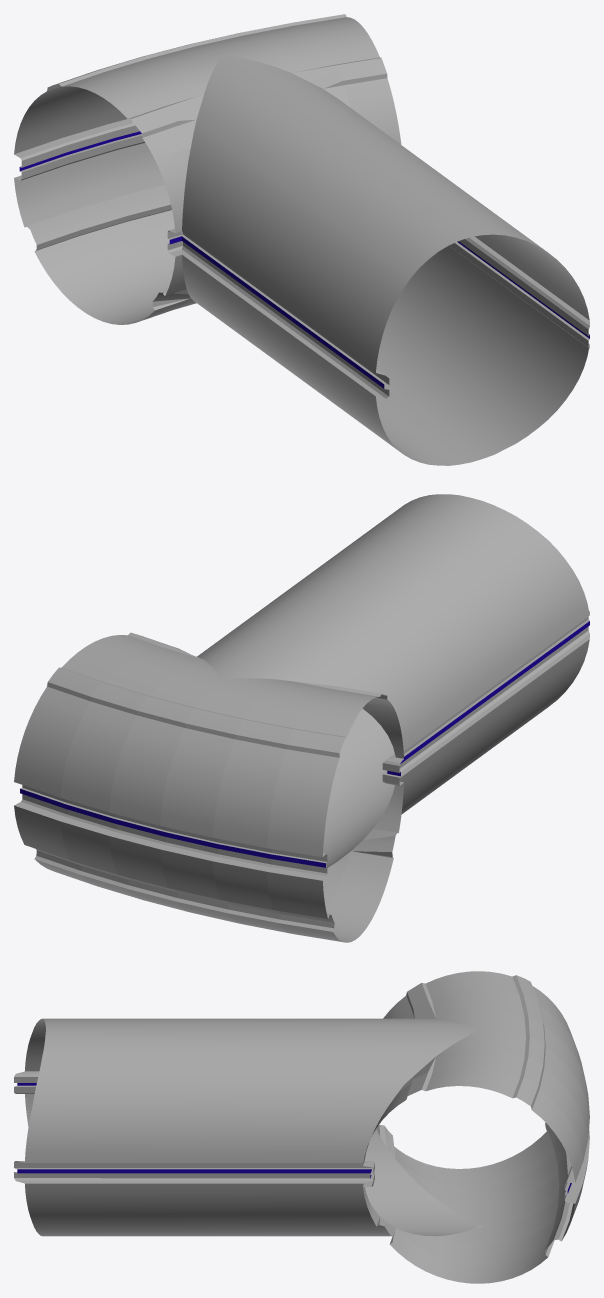
The model's file is Geo_Rohr_Intersection.fbx.
The picture shows the model from 3 angles, top to bottom: view 1: azimuth 30°, elevation 25°; view 2: azimuth 150°, elevation 25°; view 3: azimuth 270°, elevation 25°; orthographic projection. The views are drawn at different scales.
Visible parts, largest first — view 1: Intersection_Gang, Intersection_Kreis; view 2: Intersection_Kreis, Intersection_Gang; view 3: Intersection_Gang, Intersection_Kreis.
Boxes of the visible parts, x1=… form: Intersection_Gang: x1=181, y1=55, x2=589, y2=465; Intersection_Kreis: x1=14, y1=14, x2=401, y2=324; Intersection_Kreis: x1=14, y1=632, x2=403, y2=942; Intersection_Gang: x1=197, y1=494, x2=589, y2=867; Intersection_Gang: x1=14, y1=1018, x2=481, y2=1236; Intersection_Kreis: x1=363, y1=971, x2=589, y2=1283.
Bounding box in the file's own units: 431 × 300 × 795.
